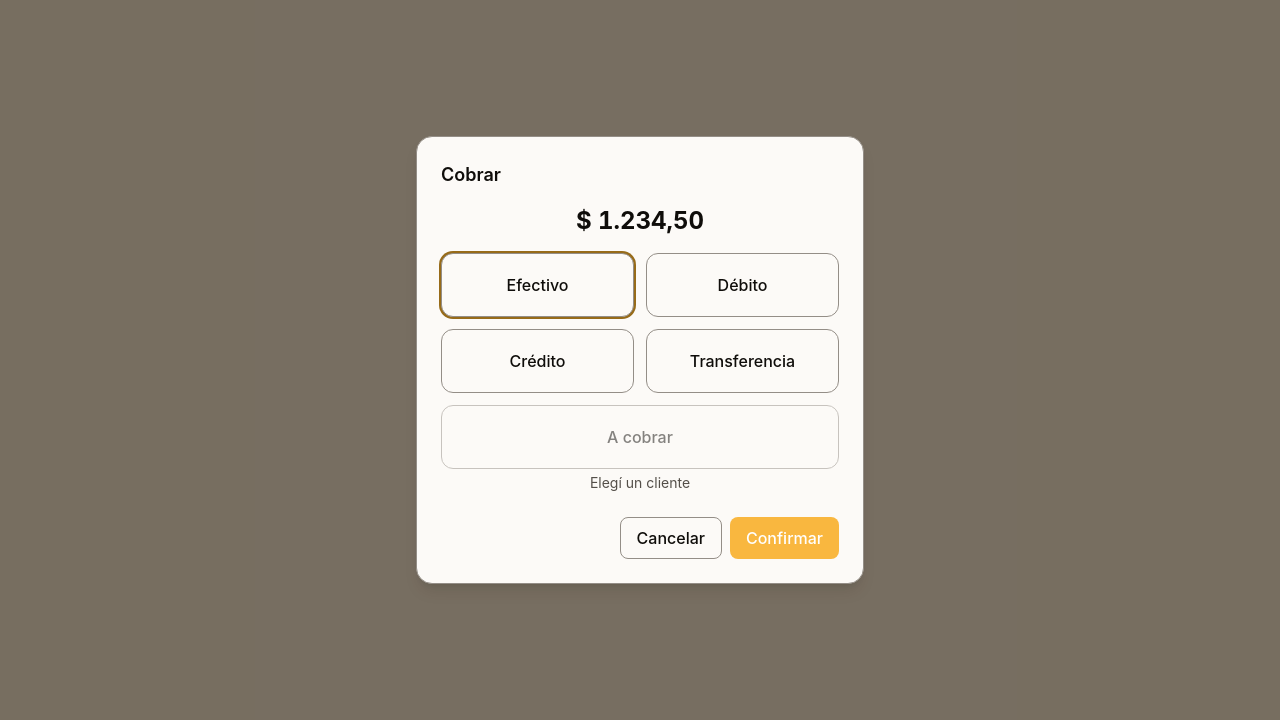
Test: ModalCobro › "Confirmar" arranca deshabilitado hasta elegir un medio de pago
Expected: the button "Confirmar" is disabled, [730,517,839,559]
Click the button "Efectivo" at [538, 285], box [441,253,634,317]
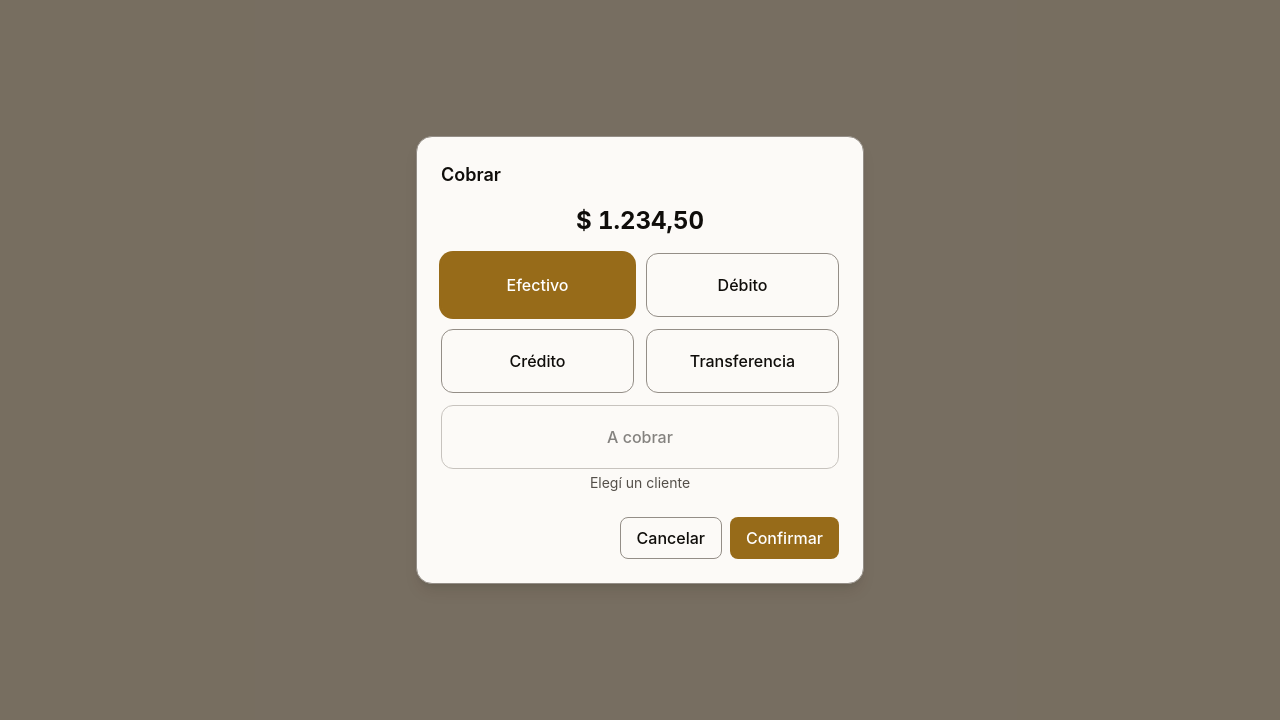
Result: the button "Confirmar" is enabled at [730,517,839,559]
